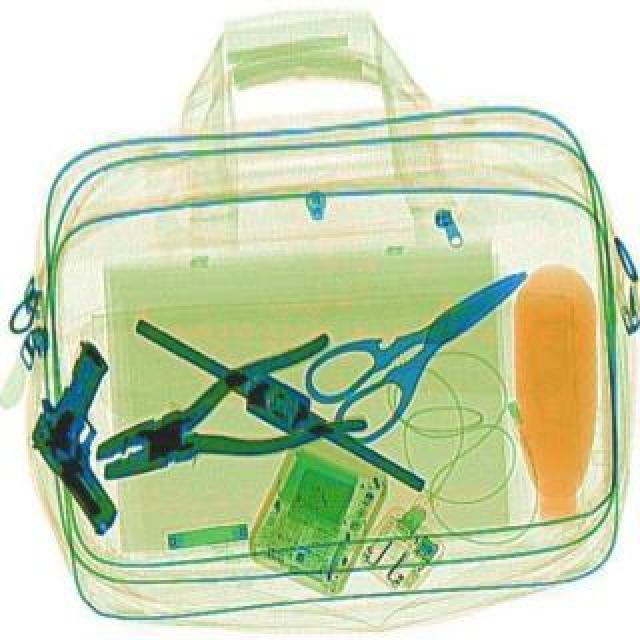gun: (2, 338, 194, 530)
pliers: (294, 234, 562, 450)
wrench: (80, 330, 372, 516)
